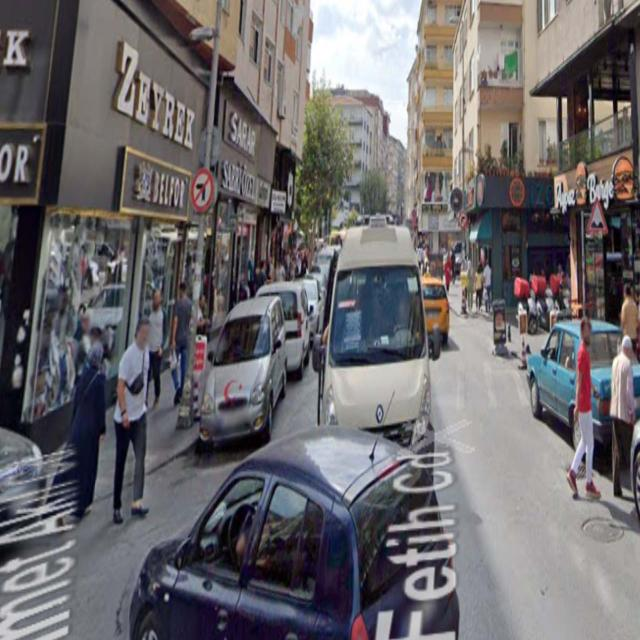sagadonulmez: (458, 210, 466, 228)
soladonulmez: (192, 169, 215, 212)
